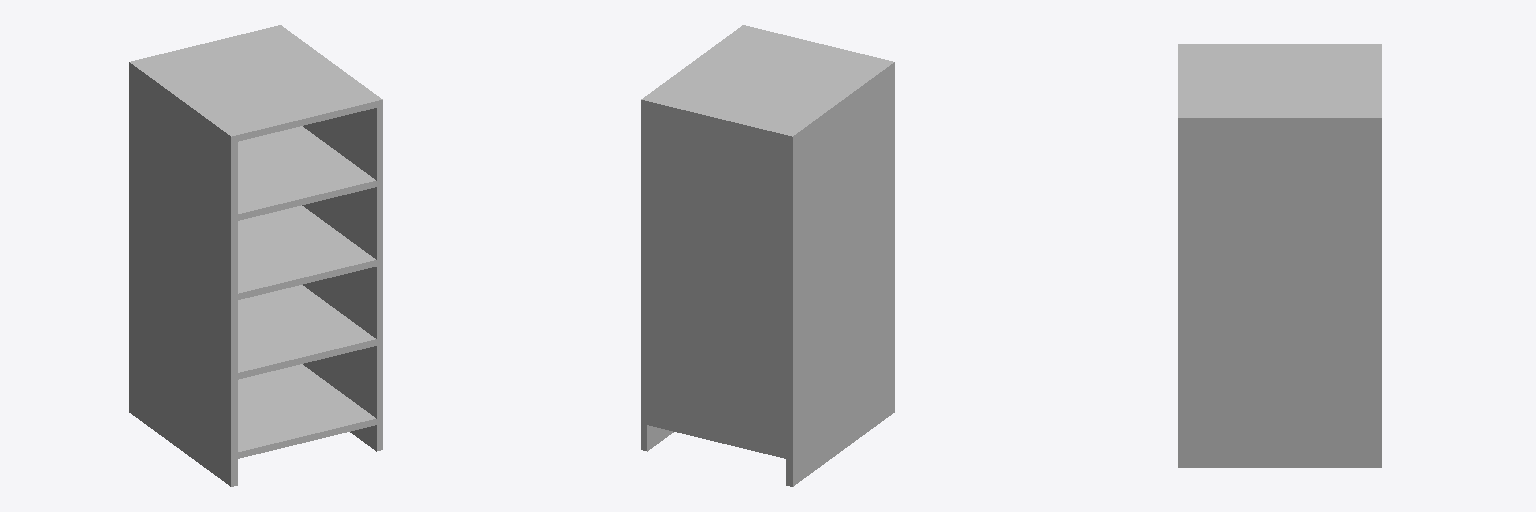
File: Shelf.obj
3 views of the same model, side by side, from view 1: azimuth 30°, elevation 25°; view 2: azimuth 150°, elevation 25°; view 3: azimuth 270°, elevation 25° (orthographic).
Parts seen in each view (by area): view 1: Shelf; view 2: Shelf; view 3: Shelf.
Boxes of the visible parts, <box> form: Shelf: <box>129,25,382,486</box>; Shelf: <box>641,25,894,486</box>; Shelf: <box>1178,44,1381,467</box>.
Bounding box in the file's own units: 24 × 53 × 28.